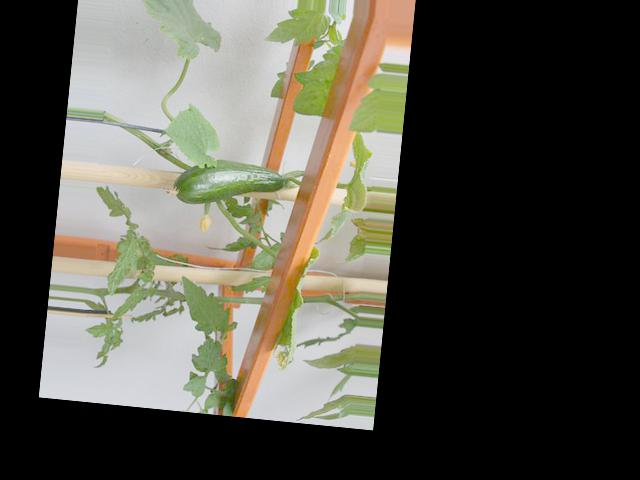cucumber: (164, 155, 284, 212)
